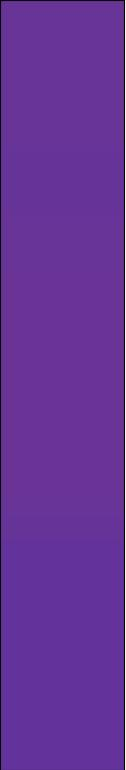safe: (10, 8, 108, 761)
